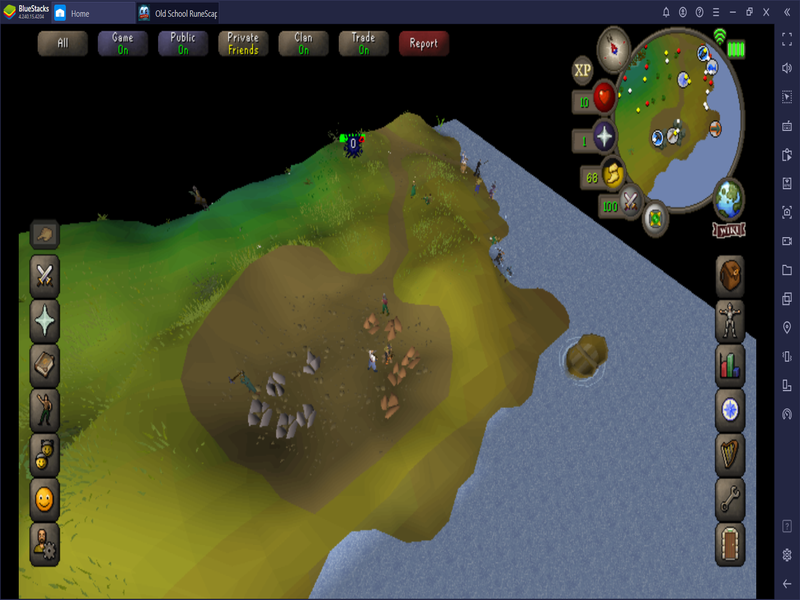copper_rock_1: (362, 313, 380, 335)
copper_rock_2: (383, 315, 405, 340)
